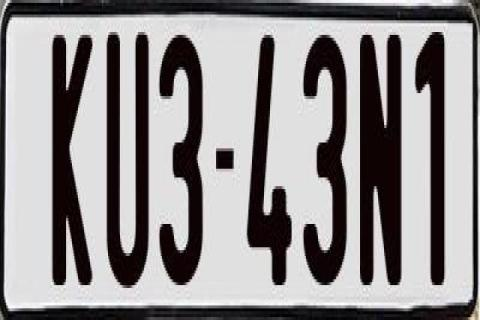0: (243, 29, 296, 282), (304, 26, 352, 288), (158, 27, 206, 280), (414, 27, 446, 286)
K: (50, 29, 90, 291)
N: (359, 32, 405, 291)
U: (106, 26, 152, 291)
